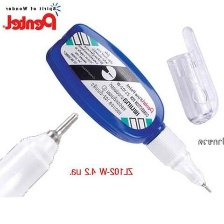correction_fluid: (43, 20, 215, 196)
